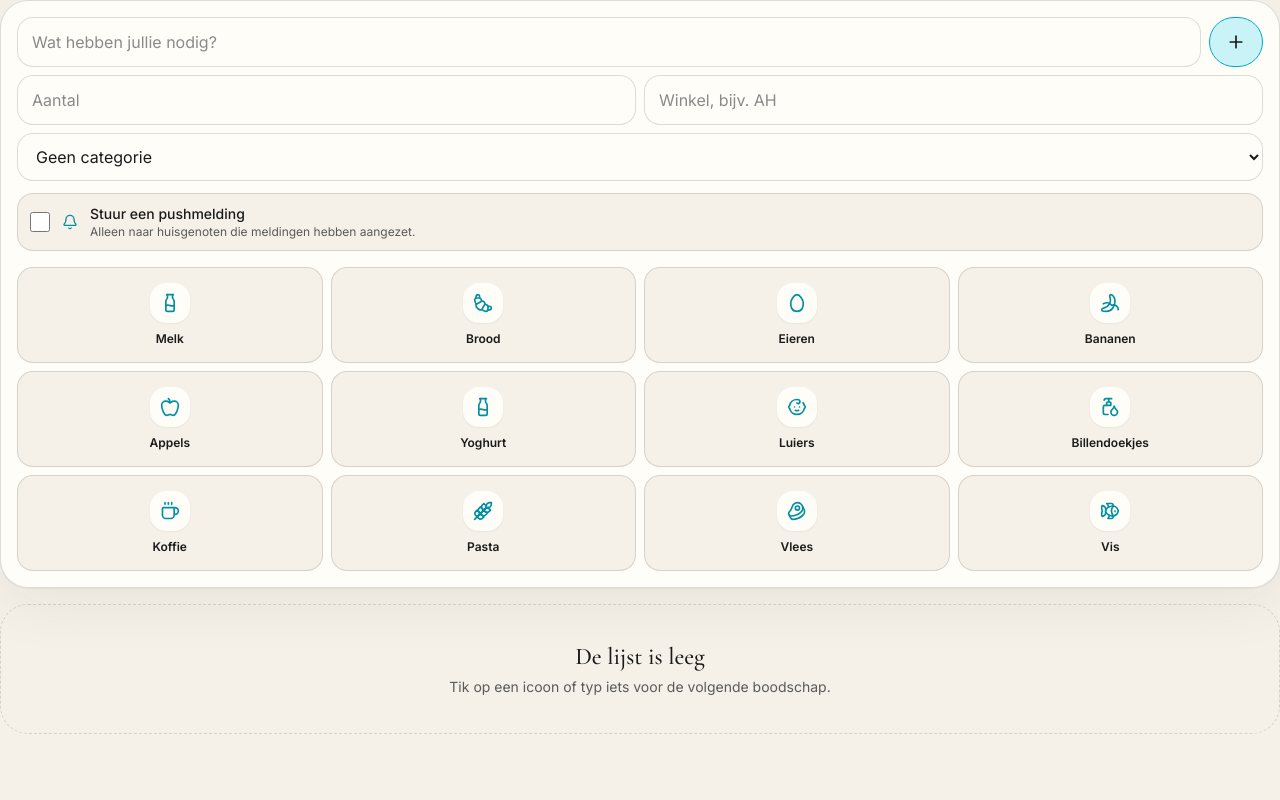
Scenario: GroceryPanel › voegt een product toe via een icoontegel
Click the button with aria-label "Melk snel toevoegen": [170, 315] box [17,267,322,363]
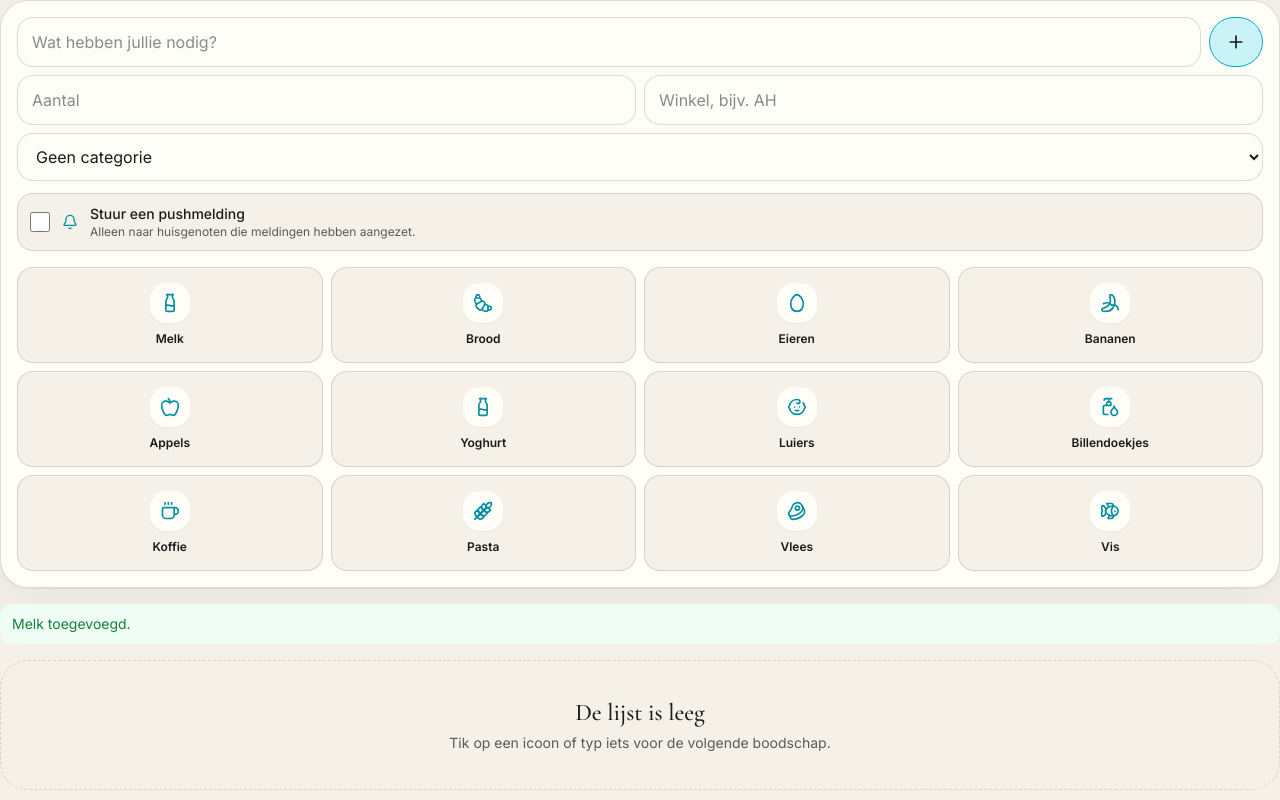
Now the text "Melk toegevoegd." is shown, box [0,604,1279,644]
